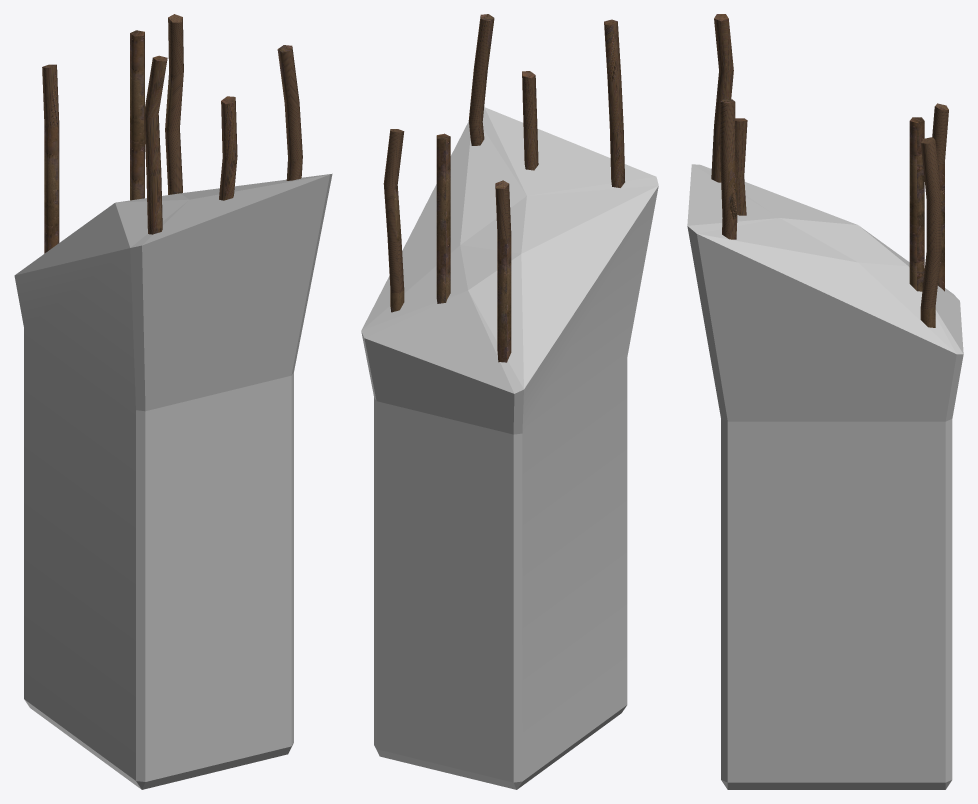
File: CIV_Pier_Short_002.fbx
3 renders of one model, left to right at view 1: azimuth 30°, elevation 25°; view 2: azimuth 150°, elevation 25°; view 3: azimuth 270°, elevation 25°, orthographic. The views are drawn at different scales.
Parts seen in each view (by area): view 1: CIV_Pier_Short_002; view 2: CIV_Pier_Short_002; view 3: CIV_Pier_Short_002.
Part boxes in pixels (<box>): CIV_Pier_Short_002: <box>14,14,332,789</box>; CIV_Pier_Short_002: <box>361,14,658,789</box>; CIV_Pier_Short_002: <box>687,14,963,789</box>.
Size of the model in its own units: 191 by 665 by 234.
